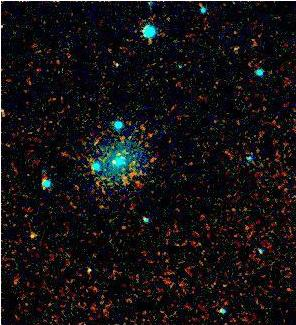star: (18, 220, 48, 250)
